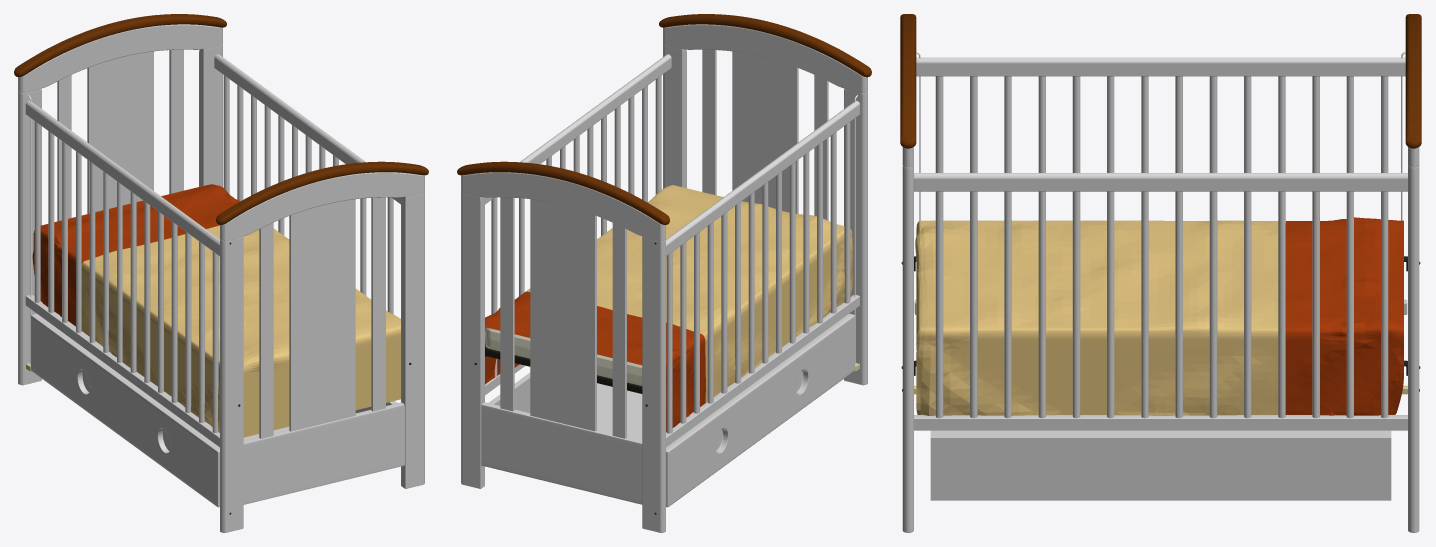
File: crib.FBX
The picture shows the model from 3 angles, left to right: view 1: azimuth 30°, elevation 25°; view 2: azimuth 150°, elevation 25°; view 3: azimuth 270°, elevation 25°; orthographic projection. The views are drawn at different scales.
Parts seen in each view (by area): view 1: base, Plane, box; view 2: base, Plane, box, Cube.003, mattress, sumi; view 3: base, Plane, Cube.003, guide.
Part boxes in pixels (x1,y1,x2,y2): base: (14, 14, 428, 532); Plane: (32, 184, 400, 437); box: (31, 313, 219, 507); base: (457, 14, 871, 532); Plane: (485, 185, 852, 431); box: (666, 313, 854, 507); Cube.003: (488, 372, 642, 440); mattress: (485, 327, 642, 385); sumi: (485, 343, 642, 393); base: (900, 14, 1421, 532); Plane: (915, 217, 1403, 415); Cube.003: (930, 430, 1391, 500); guide: (902, 51, 1419, 394).
Bounding box in the file's own units: 29.19 × 44.54 × 49.92.
